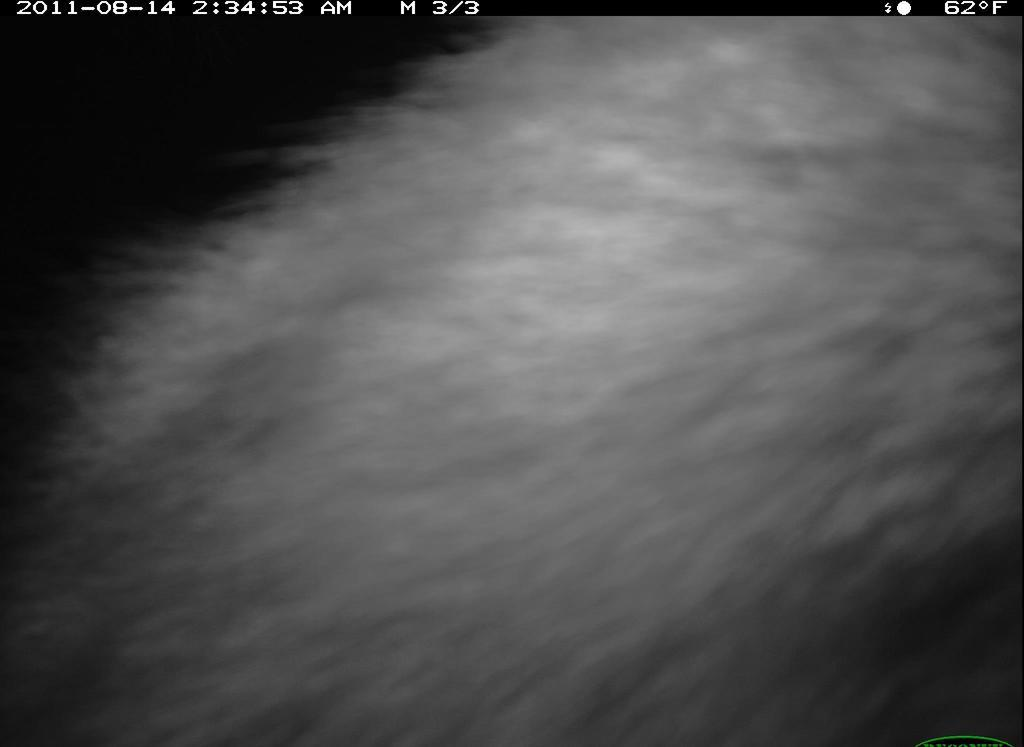raccoon: (9, 8, 1019, 739)
